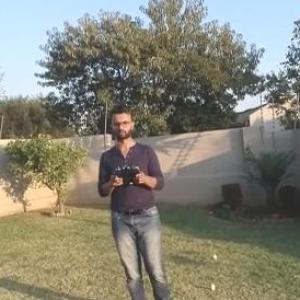follow: (92, 98, 177, 299)
